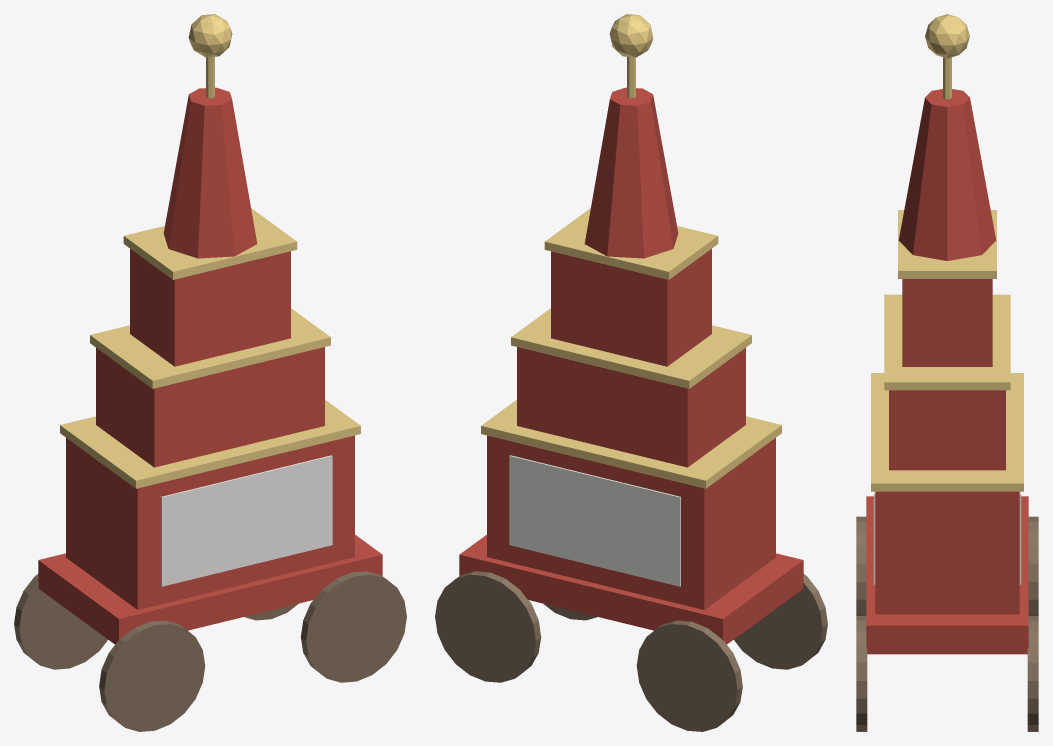
Rendered from brindellone.glb.
The picture shows the model from 3 angles, left to right: view 1: azimuth 30°, elevation 25°; view 2: azimuth 150°, elevation 25°; view 3: azimuth 270°, elevation 25°; orthographic projection.
Visible parts, largest first — view 1: brindellone_body, brindellone_wheels, brindellone_gilt, brindellone_panels; view 2: brindellone_body, brindellone_wheels, brindellone_gilt, brindellone_panels; view 3: brindellone_body, brindellone_gilt, brindellone_wheels, brindellone_panels.
Boxes of the visible parts, x1,y1,x2,y2 form: brindellone_body: (38,87,382,644); brindellone_wheels: (14,571,406,731); brindellone_gilt: (60,14,360,488); brindellone_panels: (161,455,332,586); brindellone_body: (459,87,803,644); brindellone_wheels: (435,571,827,731); brindellone_gilt: (481,14,781,488); brindellone_panels: (509,455,680,586); brindellone_body: (866,89,1028,654); brindellone_gilt: (871,14,1023,491); brindellone_wheels: (856,516,1038,731); brindellone_panels: (873,491,1021,584).
Size of the model in its own units: 3.9 by 8.1 by 2.02.
